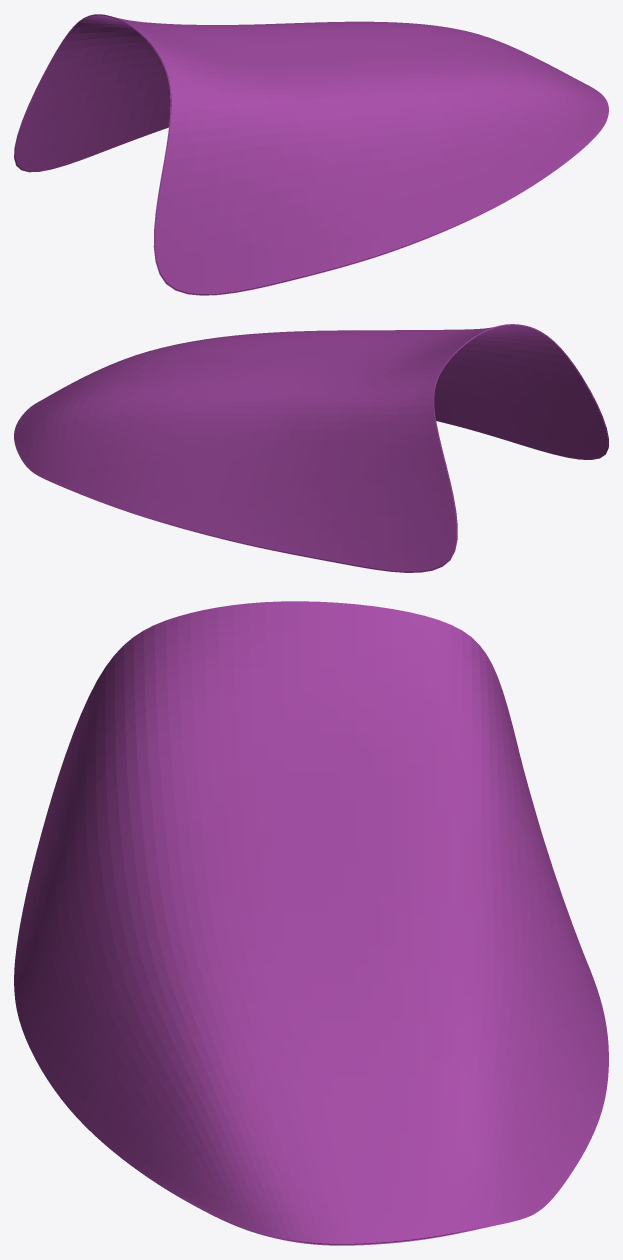
File: frontRightPurple.obj
3 views of the same model, one above another, from view 1: azimuth 30°, elevation 25°; view 2: azimuth 150°, elevation 25°; view 3: azimuth 270°, elevation 25° (orthographic). The views are drawn at different scales.
Parts seen in each view (by area): view 1: Plane; view 2: Plane; view 3: Plane.
Boxes of the visible parts, box(x1,y1,x2,y2) form: Plane: box(14, 14, 608, 295); Plane: box(14, 324, 608, 572); Plane: box(14, 601, 608, 1245).
Bounding box in the file's own units: 14.6 × 5.14 × 9.
1 material, 1 textured.
